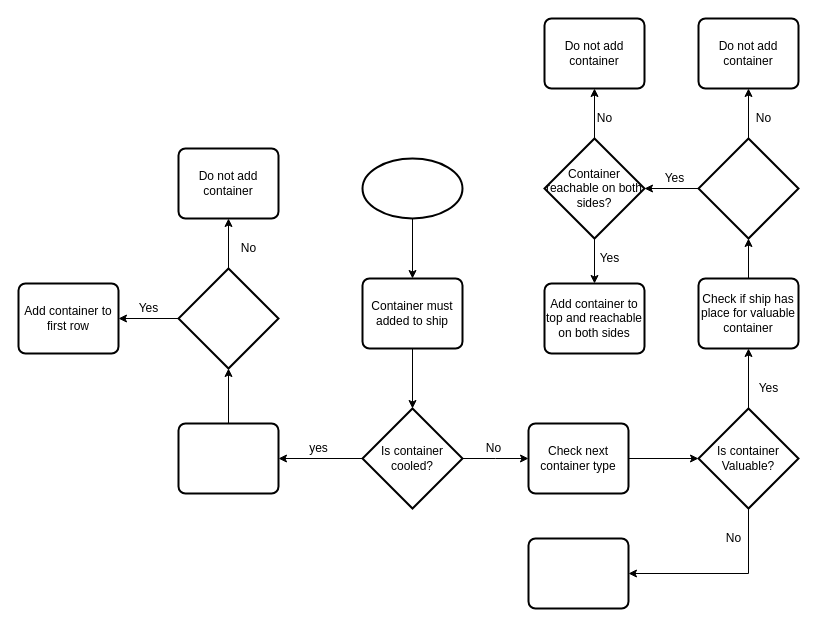
Image size: 816x626. Some labels were removed from this diagram. The shapes that lost their labels are listed below. From the top down, each one's box as (x1, y1, x2, y2) in pixels, then its label:
(361, 157, 463, 219): Start
(697, 137, 799, 239): Available spot on top?
(177, 267, 279, 369): Available spot in first row?
(177, 422, 279, 494): Check if ship has place for cooled container
(527, 537, 629, 609): Check if ship has place for normal container
